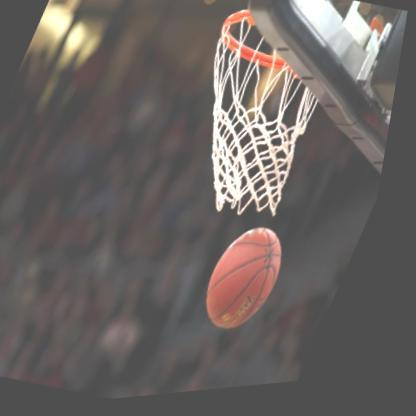basketball: (199, 222, 307, 346)
rim: (136, 0, 371, 249)
